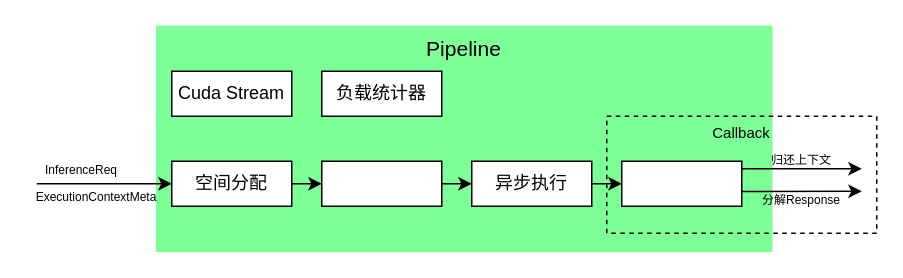
This 903x278 diagram has some shape labels left out. The centre of each missing label's shape, as x and y in pixels:
上下文绑定: (381,183)
推理结果解析: (681,183)
